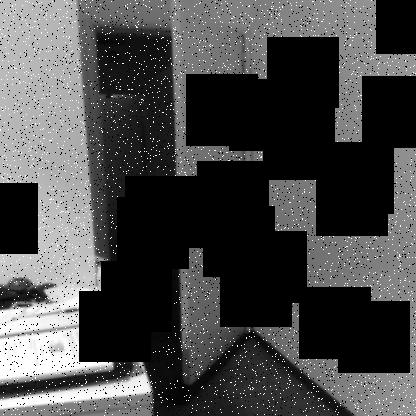Porte: (77, 0, 253, 392)
